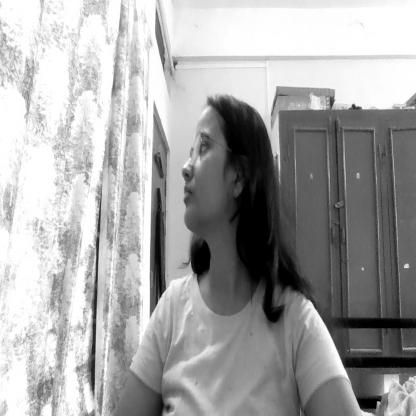Distracted: (182, 98, 262, 240)
